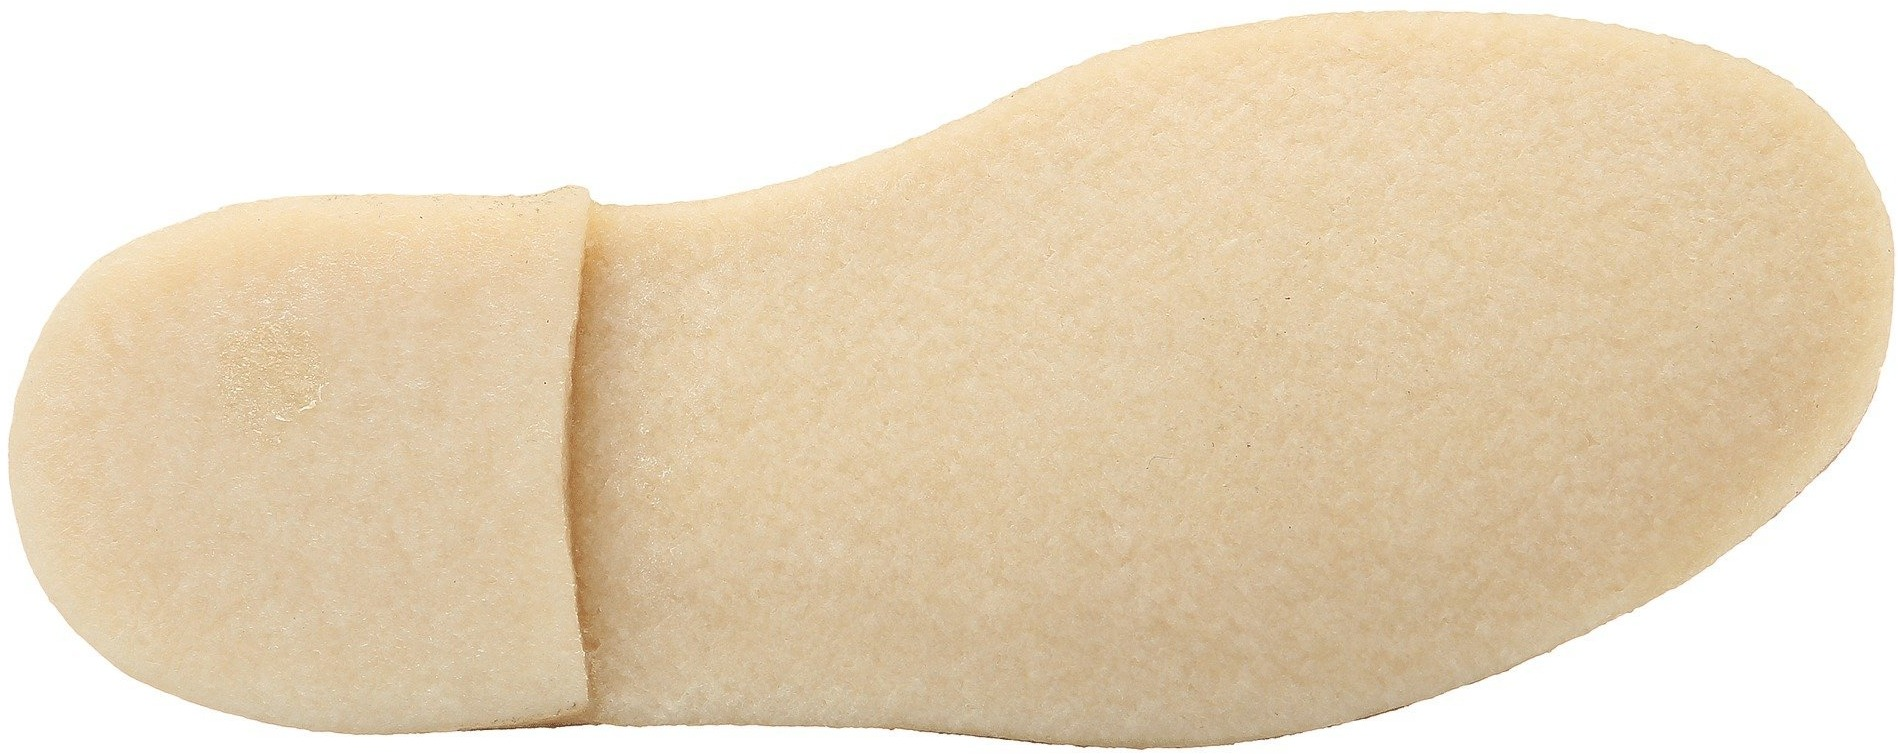other: (1037, 77, 1522, 580), (620, 186, 993, 525), (79, 299, 396, 625), (1535, 171, 1844, 474)
